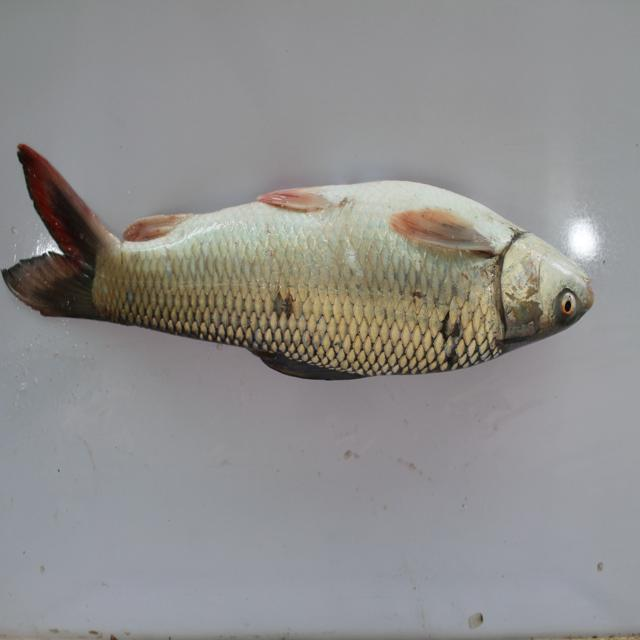Mori: (9, 129, 599, 394)
